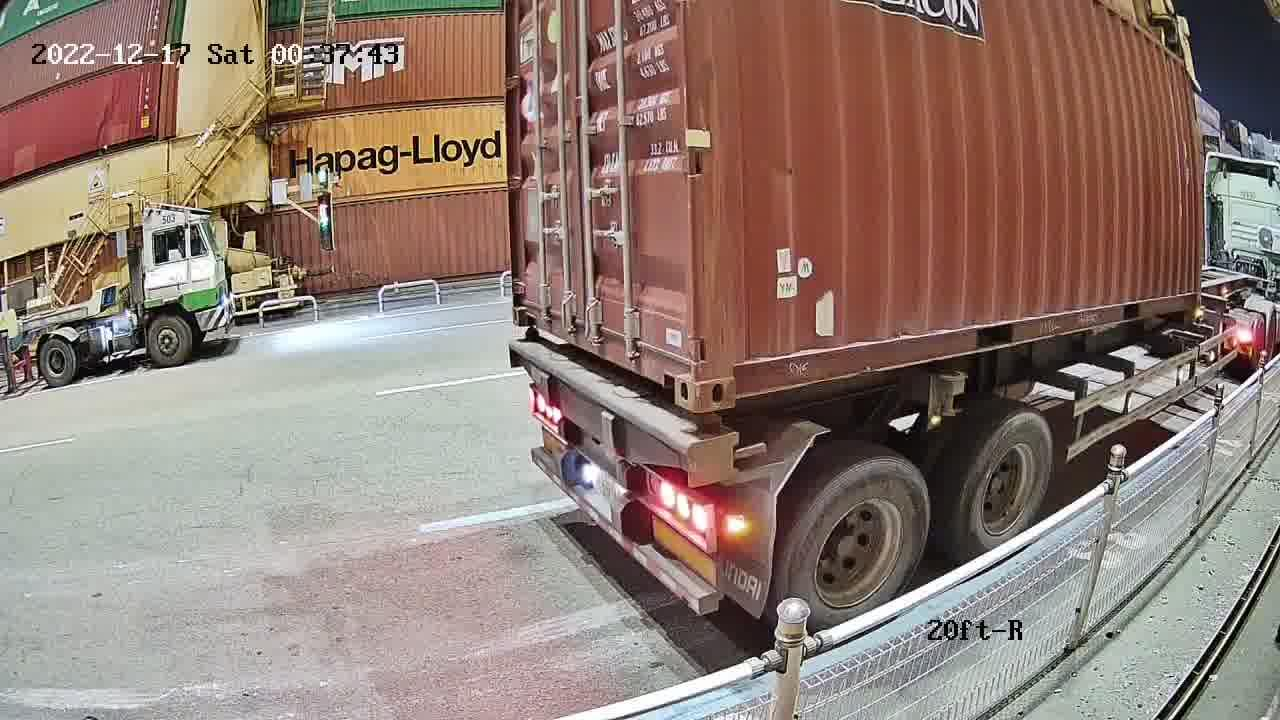Chassis: (514, 335, 734, 484)
Cone: (695, 412, 733, 484), (514, 327, 540, 349)
Hole_L: (696, 335, 757, 409), (510, 286, 540, 323)
Hole_R: (653, 332, 697, 410)
Tire: (787, 465, 931, 623), (958, 415, 1052, 545)
